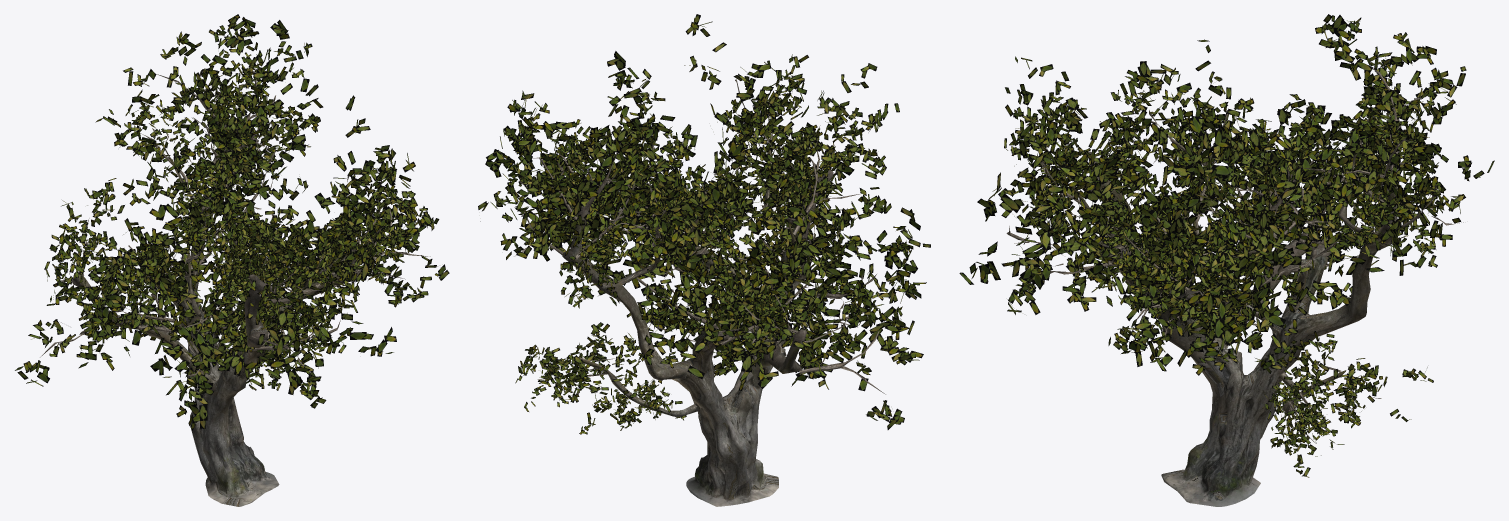
The model's file is island_tree_01.glb.
3 renders of one model, left to right at view 1: azimuth 30°, elevation 25°; view 2: azimuth 150°, elevation 25°; view 3: azimuth 270°, elevation 25°, orthographic. The views are drawn at different scales.
Parts seen in each view (by area): view 1: island_tree_01_LOD0; view 2: island_tree_01_LOD0; view 3: island_tree_01_LOD0.
Part boxes in pixels (<box>): island_tree_01_LOD0: <box>15,14,449,506</box>; island_tree_01_LOD0: <box>478,14,930,506</box>; island_tree_01_LOD0: <box>959,14,1494,506</box>.
Bounding box in the file's own units: 4.6 × 4.81 × 4.62.
3 materials, 3 textured.
